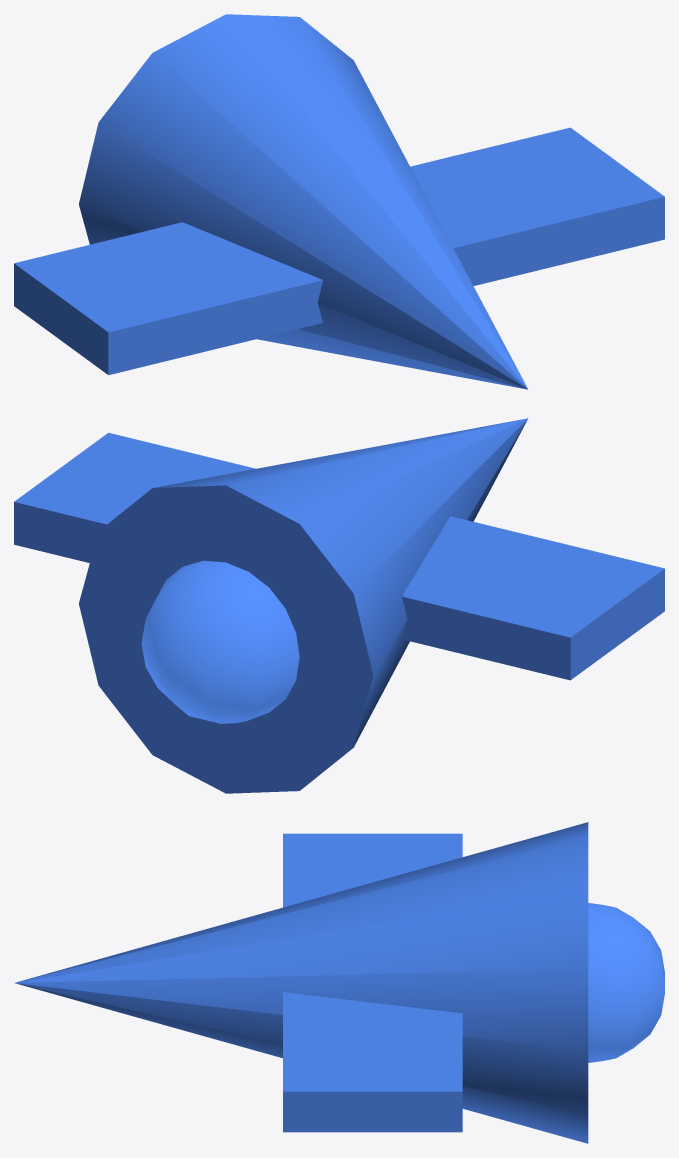
File: player.glb
3 views of the same model, one above another, from view 1: azimuth 30°, elevation 25°; view 2: azimuth 150°, elevation 25°; view 3: azimuth 270°, elevation 25° (orthographic). The views are drawn at different scales.
Bounding box in the file's own units: 3.4 × 1.8 × 3.63.
